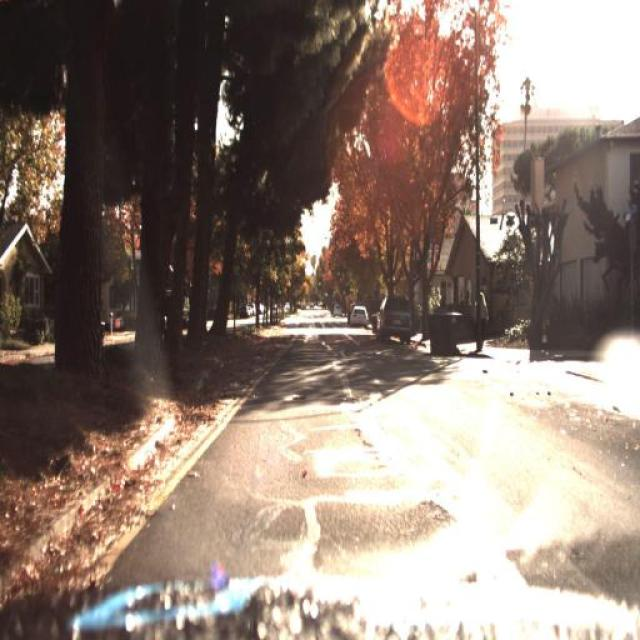car: (370, 290, 414, 346), (351, 298, 372, 334), (349, 302, 369, 327)
trafficLight: (473, 282, 488, 354), (478, 289, 492, 349)
